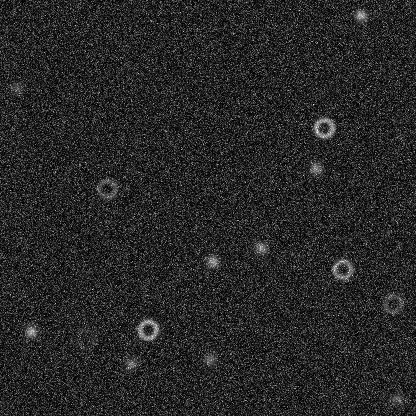Ring: (135, 317, 159, 341), (380, 291, 404, 315), (330, 257, 354, 281), (94, 176, 118, 200), (312, 115, 336, 139), (74, 326, 98, 350)
Spot: (307, 160, 323, 176), (9, 79, 25, 95), (123, 355, 139, 371), (204, 253, 220, 269), (388, 390, 404, 406), (253, 239, 269, 255), (23, 323, 39, 339), (201, 351, 217, 367), (352, 7, 368, 23)
